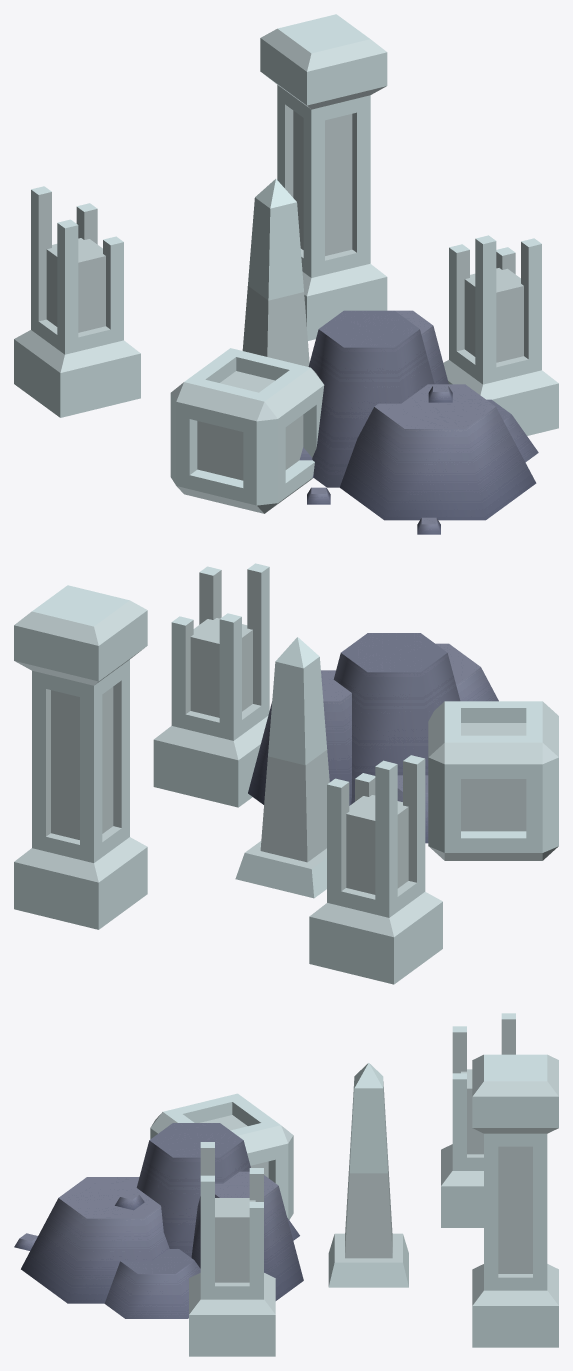
The model's file is realm_ruins.glb.
3 views of the same model, one above another, from view 1: azimuth 30°, elevation 25°; view 2: azimuth 150°, elevation 25°; view 3: azimuth 270°, elevation 25° (orthographic). The views are drawn at different scales.
Visible parts, largest first — view 1: realm_ruins; view 2: realm_ruins; view 3: realm_ruins.
Boxes of the visible parts, bbox=[...] form: realm_ruins: bbox=[14, 14, 558, 534]; realm_ruins: bbox=[14, 563, 558, 984]; realm_ruins: bbox=[14, 1013, 558, 1356].
Size of the model in its own units: 0.745 by 0.55 by 1.04.
12 materials, 1 textured.
